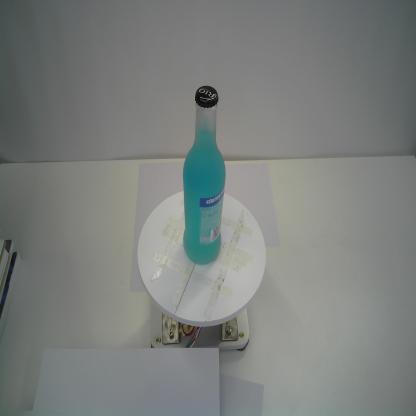Alcohol: (183, 85, 226, 266)
